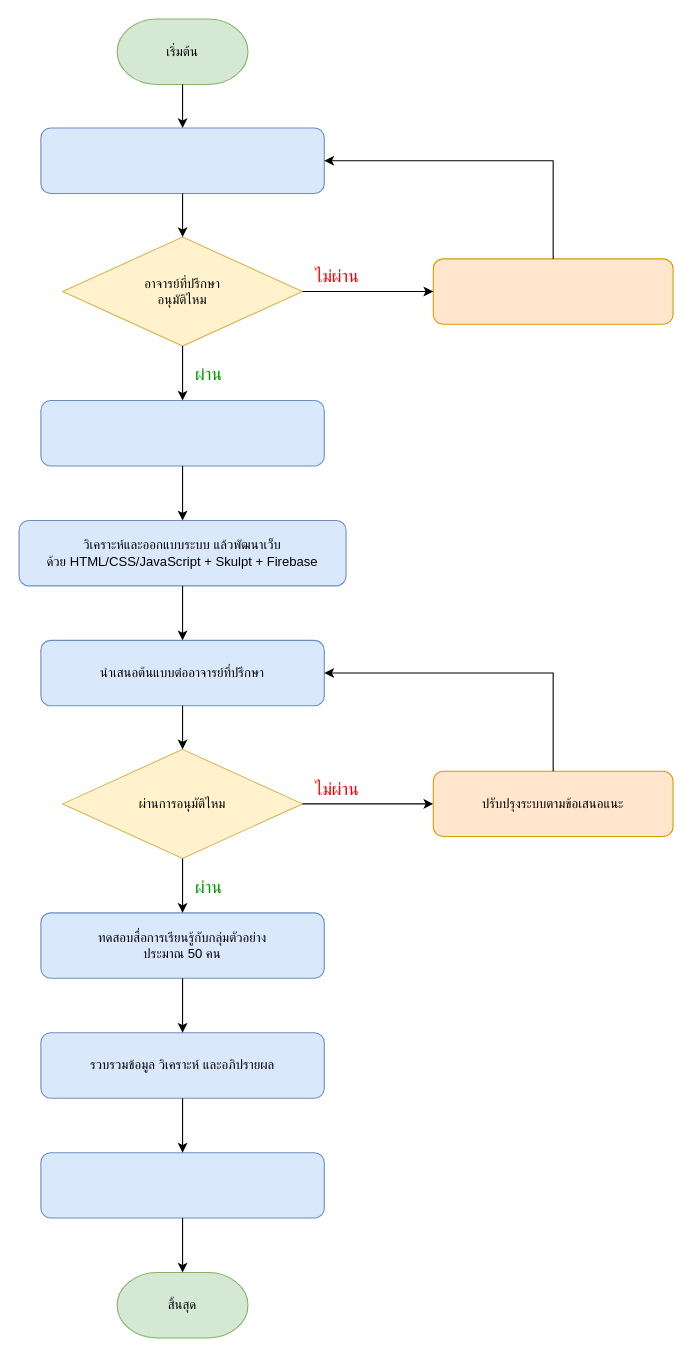
This 692x1357 diagram has some shape labels left out. The shapes that lost their labels are listed below. From the top down, each one's centre as x and y in pixels, then its label:
At [182,160]: "ค้นหาปัญหาและหัวข้อที่สนใจ จัดทำแบบเสนอโครงงาน".
At [552,291]: "ค้นหาข้อมูลเพิ่มเติม และจัดทำเอกสารใหม่".
At [182,432]: "ทบทวนวรรณกรรมและศึกษา เทคโนโลยีที่เกี่ยวข้อง".
At [182,1185]: "สรุปผลโครงงาน จัดทำรูปเล่ม และส่งมอบผลงาน".
